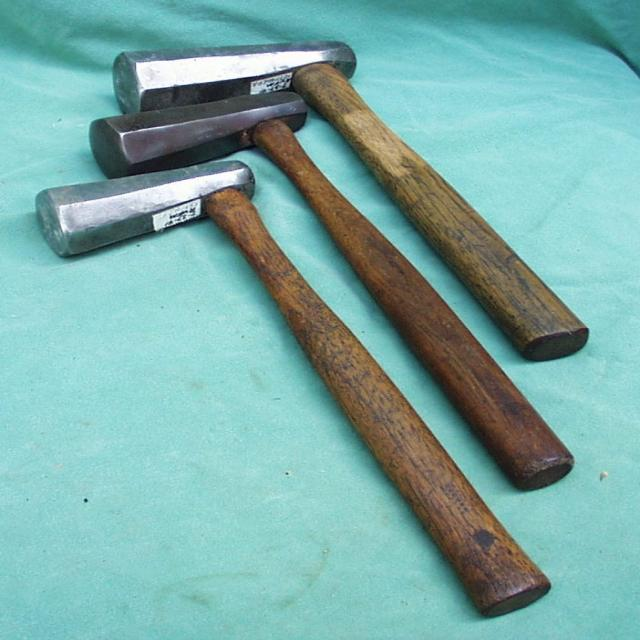hammer: (25, 153, 561, 623), (80, 86, 579, 498), (110, 29, 594, 366)
